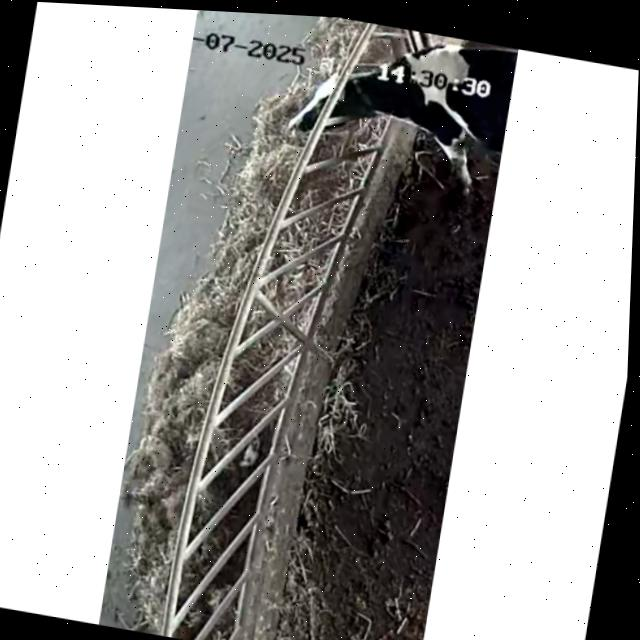eat: (245, 25, 487, 167)
